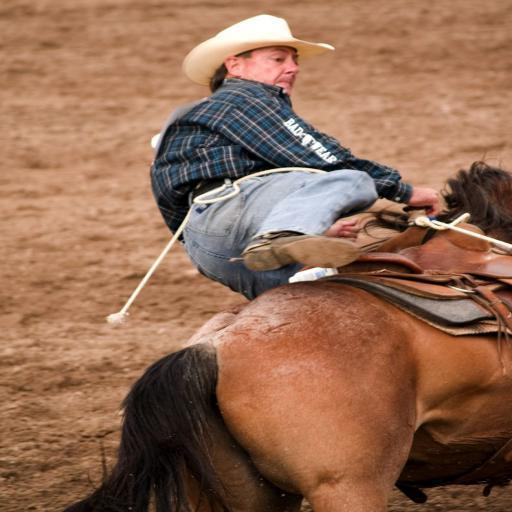horse: (68, 156, 512, 512)
